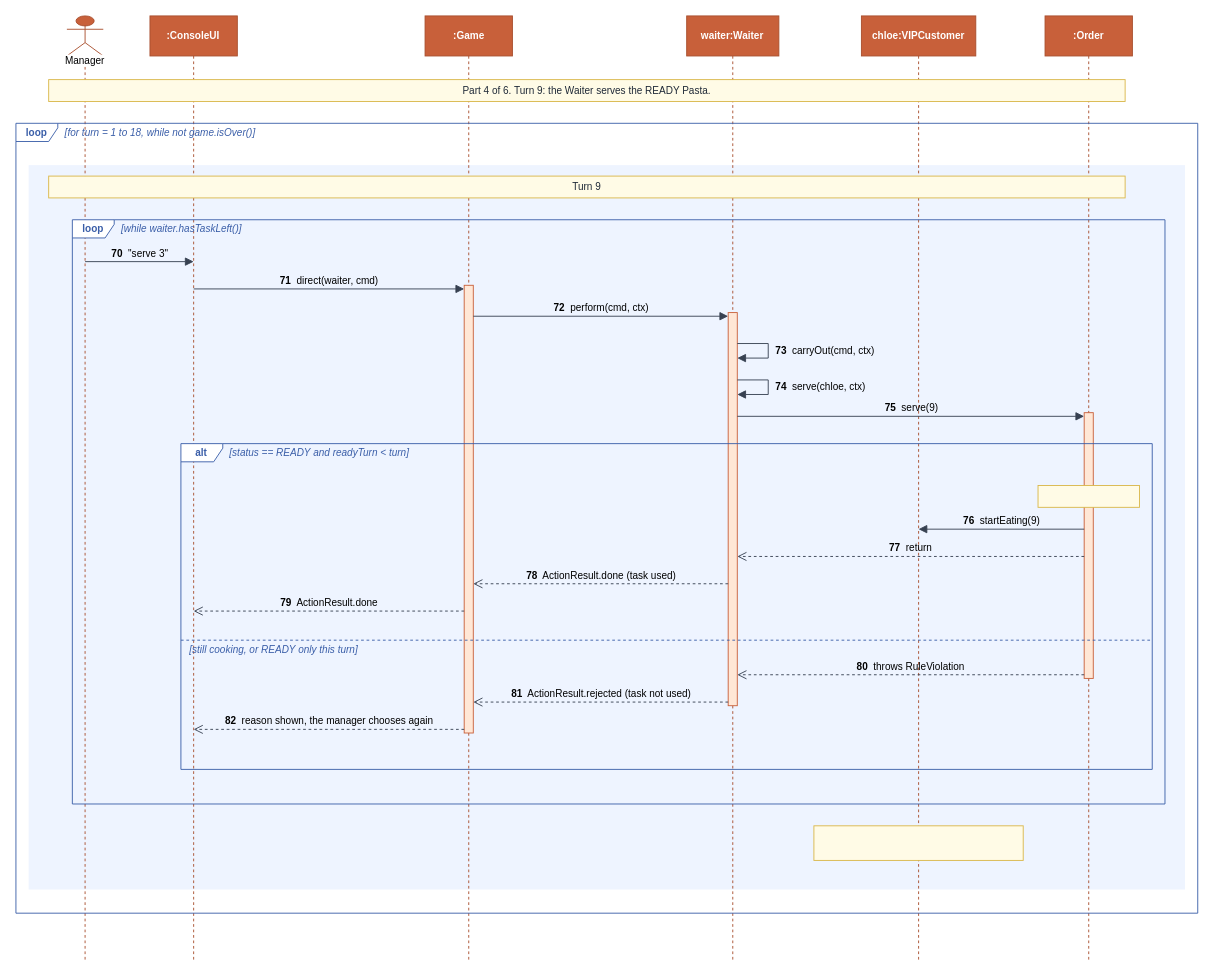
Image size: 1214x978. Some labels were removed from this diagram. Each missing label, with the centre of its shape:
"EATING: Chloe loses no more satisfaction" goes at [918,842].
"status = SERVED" goes at [1088,496].
